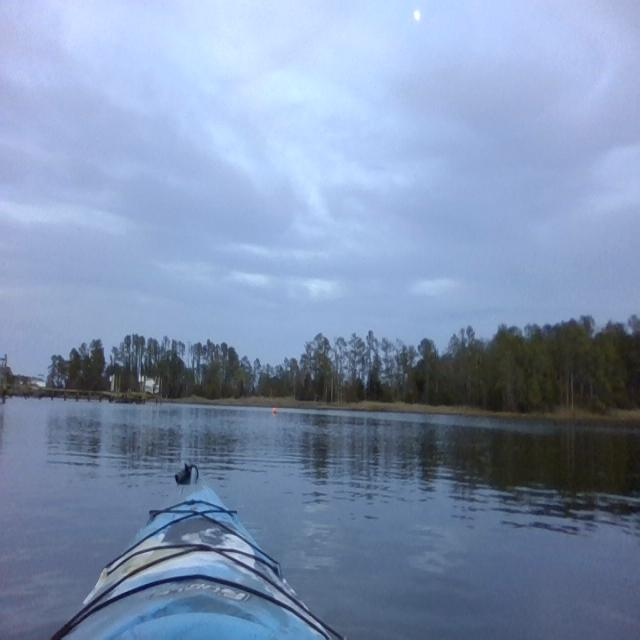Buoy: (272, 405, 278, 416)
